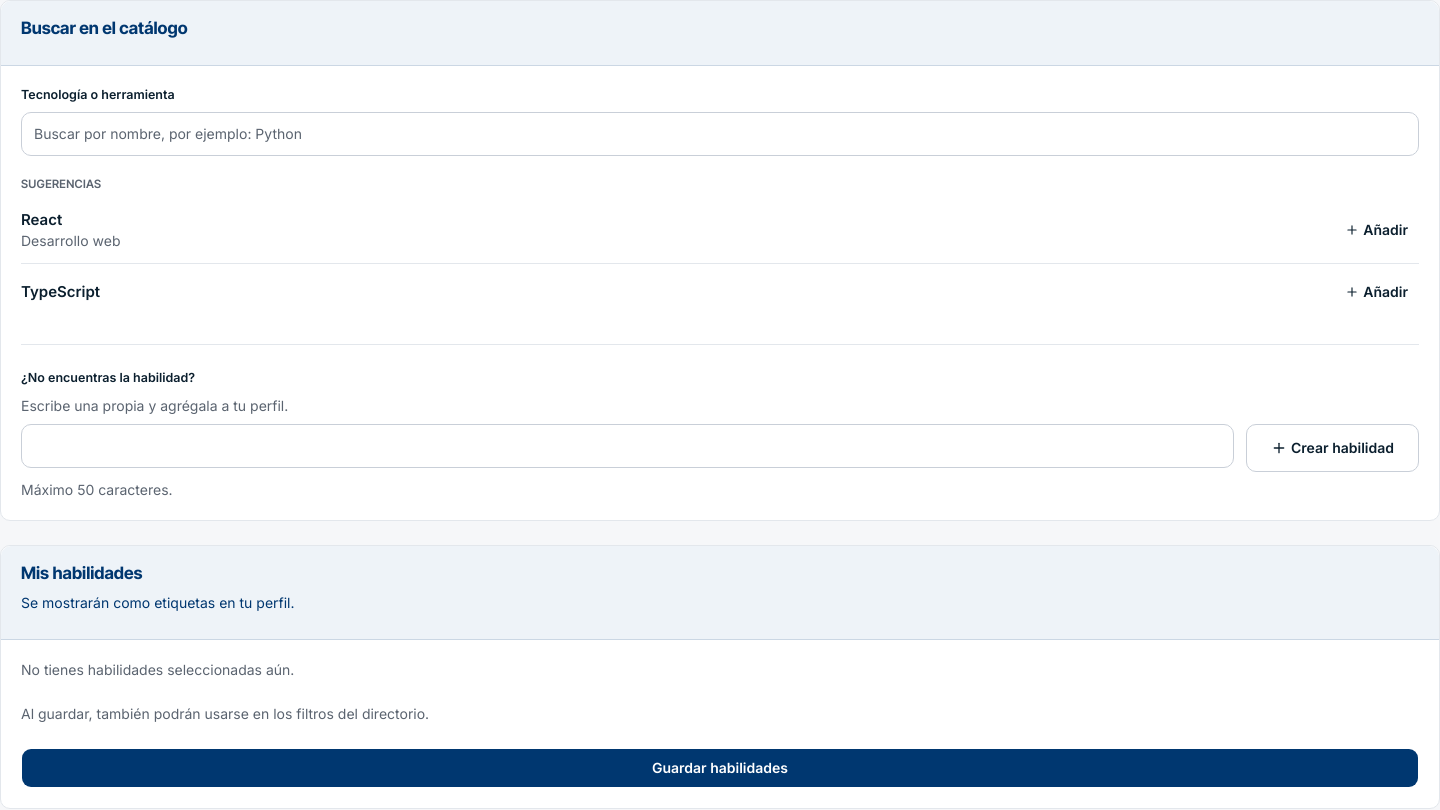
Test case: SkillsSelector › informs when the search has no matches
The width and height of the screenshot is (1440, 810).
Type "Python" into the field labelled "Tecnología o herramienta".
click(720, 134); type("Python")  # box x1=21 y1=112 x2=1419 y2=156
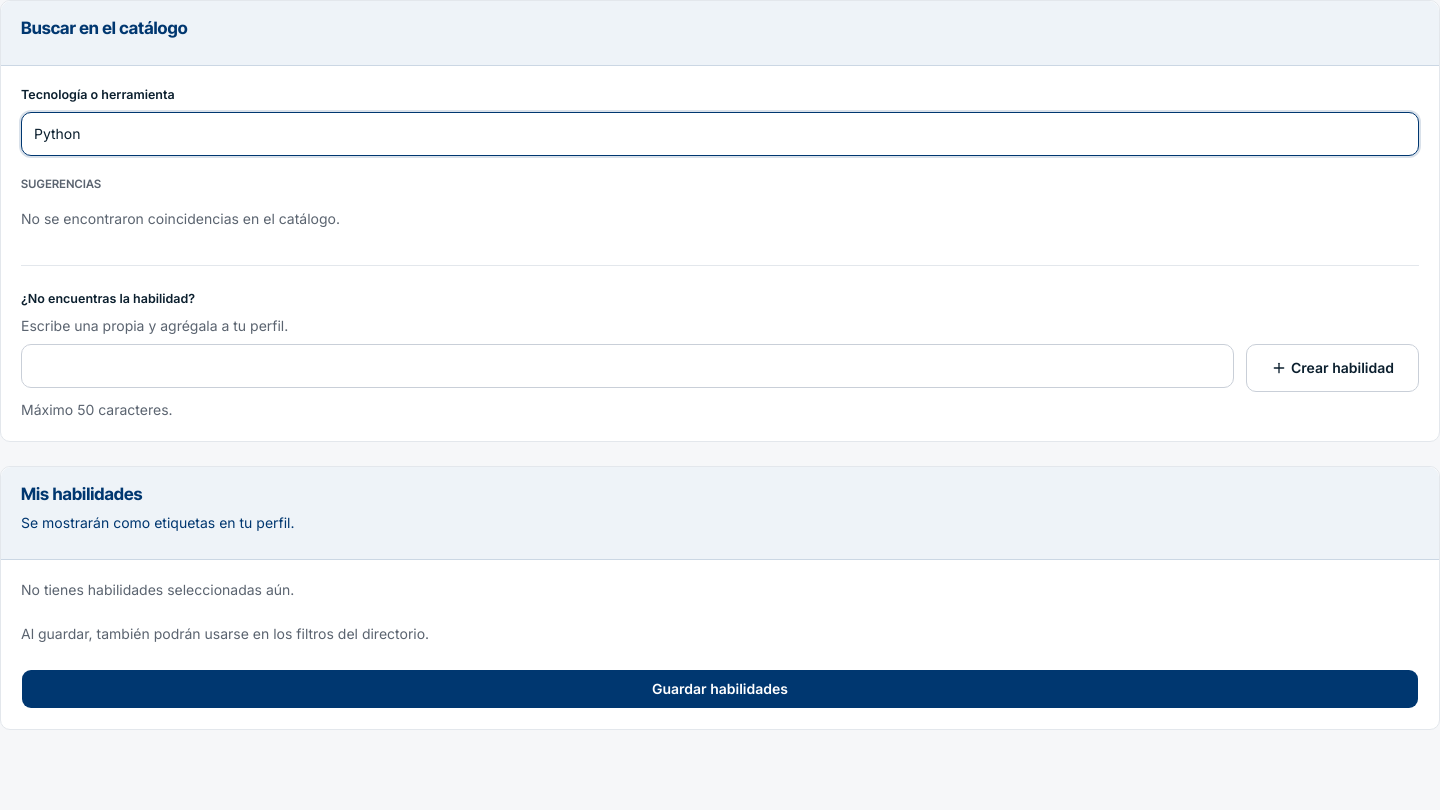
Expected: the list item "No se encontraron coincidencias en el catálogo." is shown, x1=21 y1=210 x2=340 y2=227
